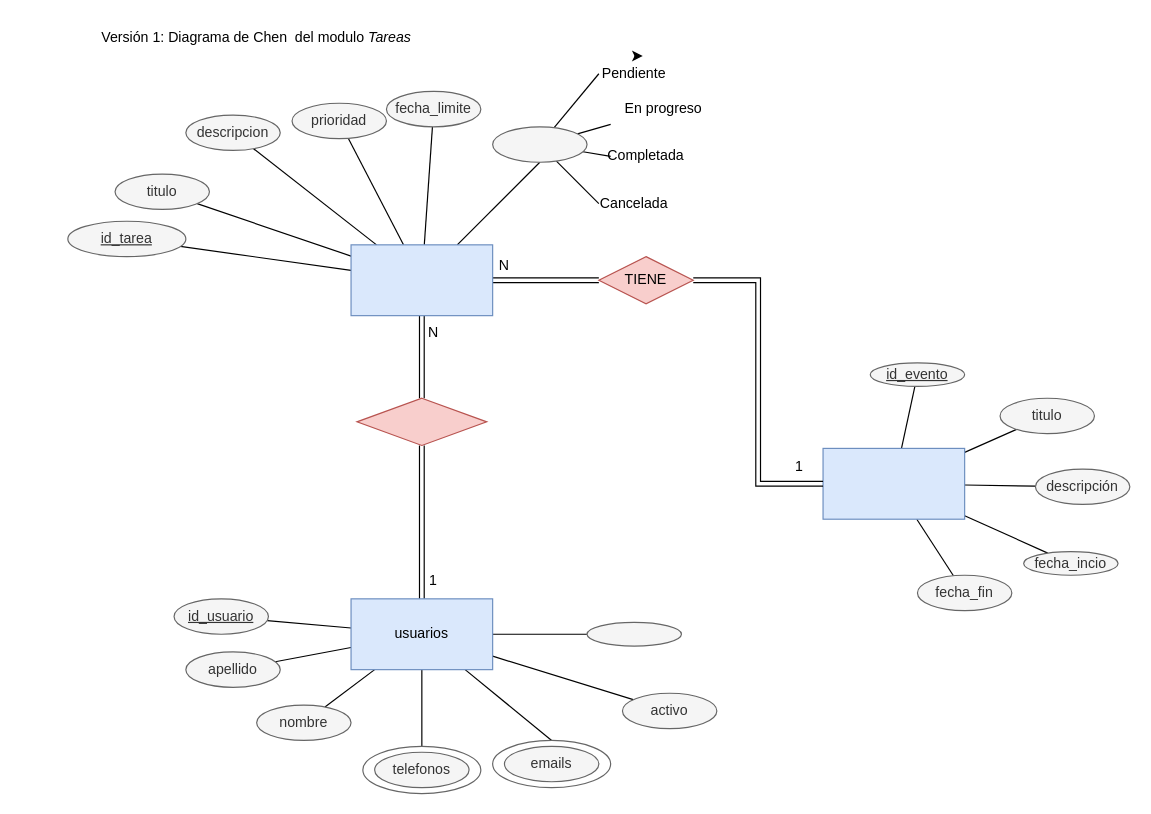
This 1151x814 diagram has some shape labels left out. Here are the shapes that lost their labels. From the top down, the box of each, then its label:
(491, 126, 587, 162): estado
(350, 244, 493, 316): tareas
(356, 397, 487, 445): ASIGNADA A
(822, 447, 965, 519): eventos
(586, 621, 681, 646): fecha_activo
